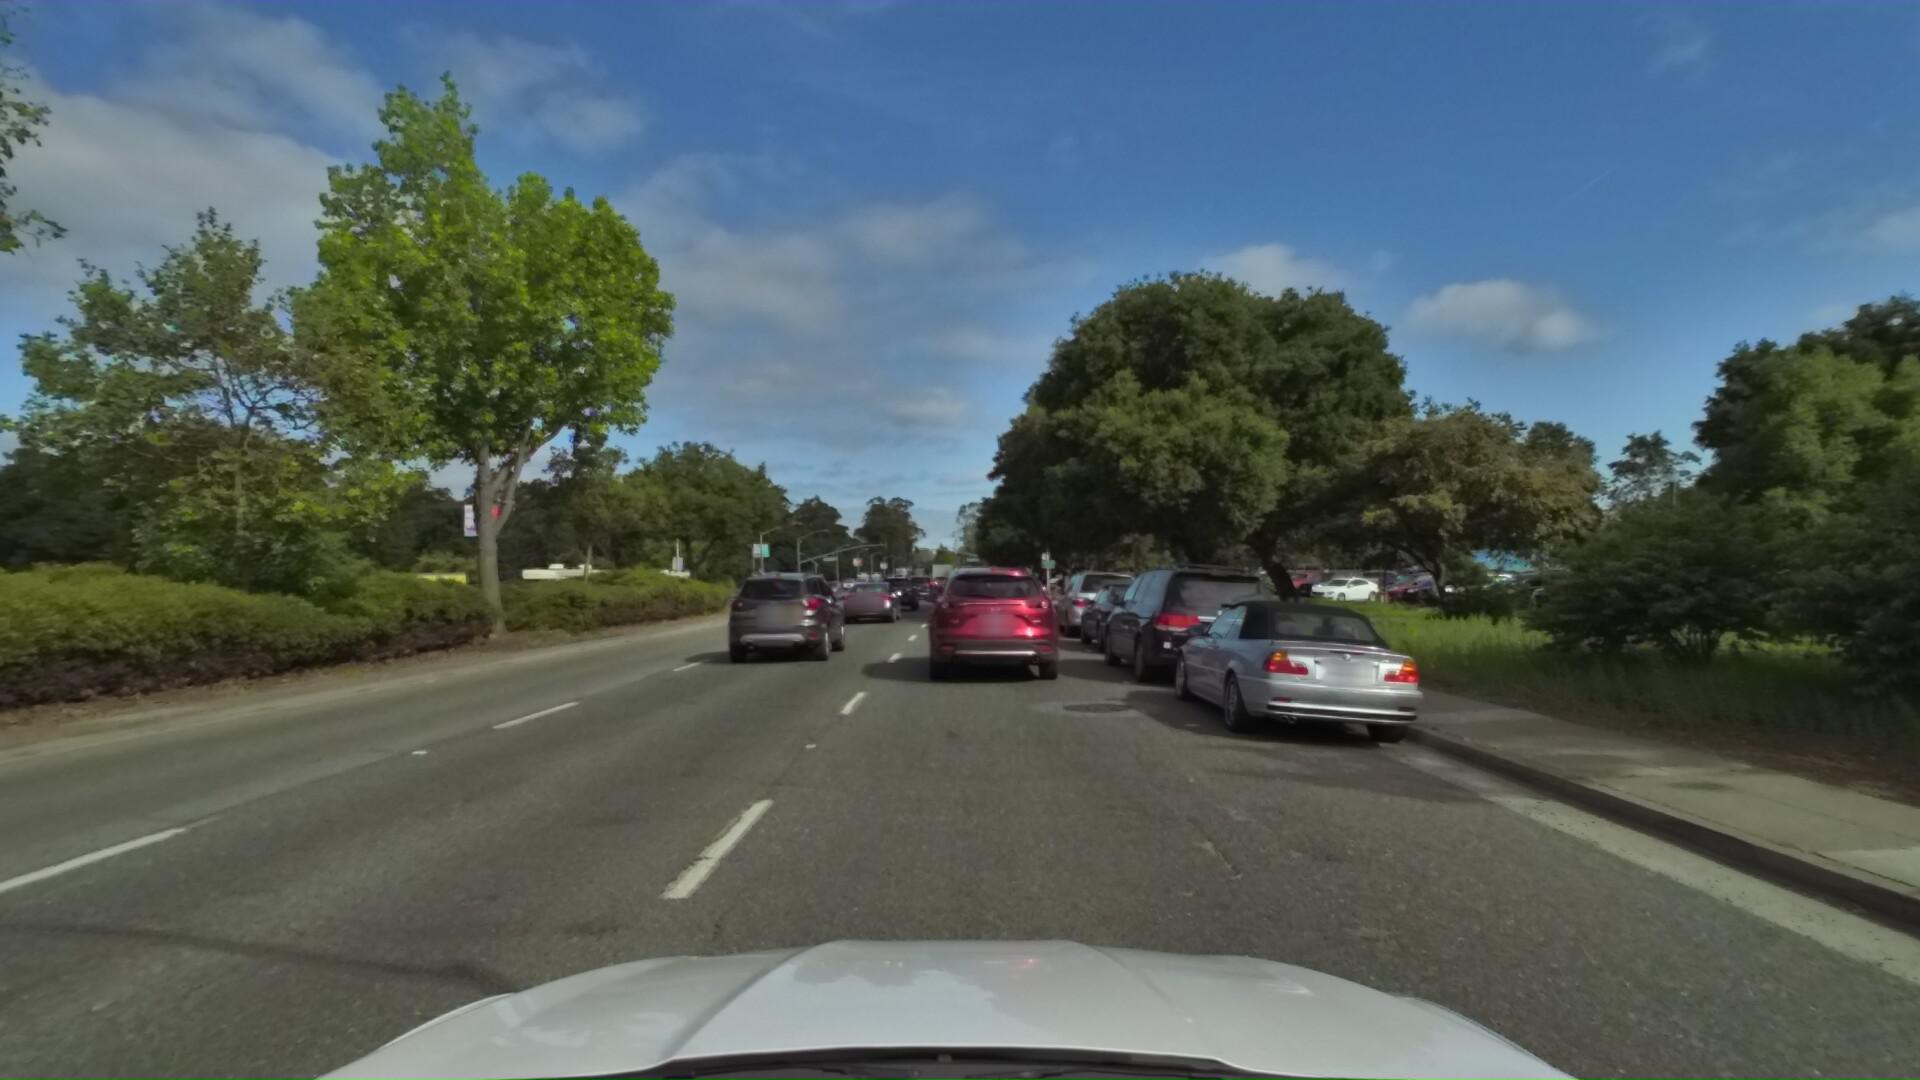car: (1159, 583, 1445, 764), (1093, 549, 1291, 696), (916, 559, 1075, 694), (716, 568, 853, 673), (1069, 574, 1196, 658), (1047, 560, 1150, 641), (835, 578, 903, 629), (868, 574, 919, 615), (940, 575, 989, 612), (1007, 574, 1046, 603), (902, 574, 938, 601)
other_vehicle: (509, 556, 613, 617)
truck: (324, 564, 472, 634), (439, 562, 542, 625)
